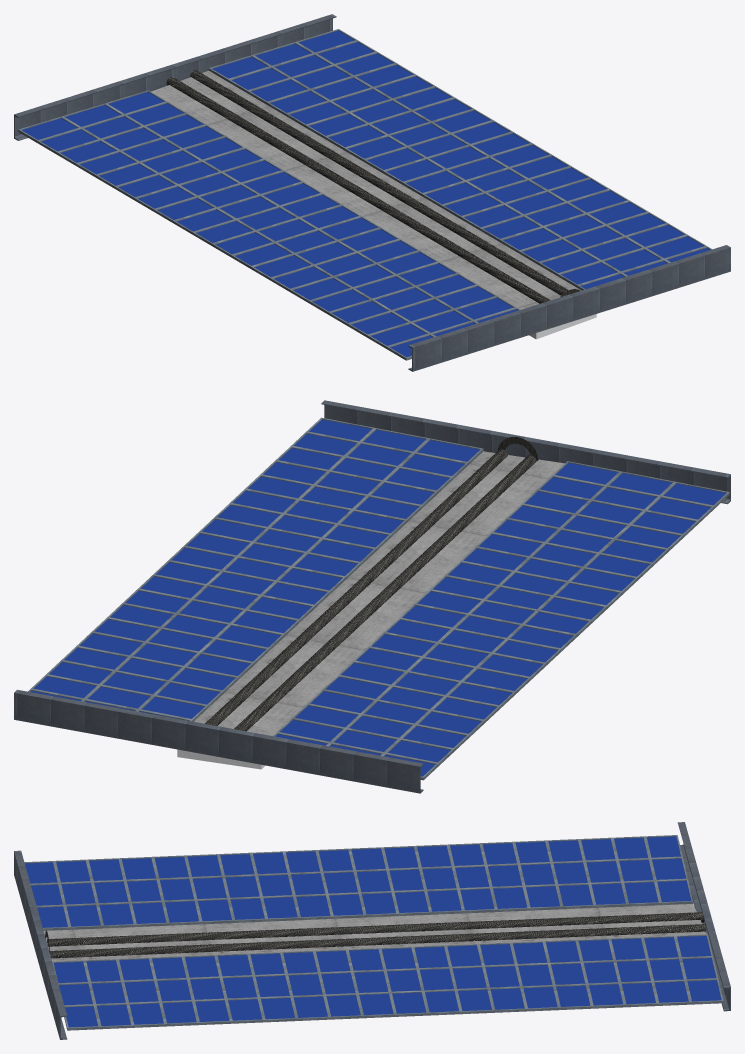
The model's file is Solarteilgr2.dae.
3 renders of one model, top to bottom at view 1: azimuth 30°, elevation 25°; view 2: azimuth 150°, elevation 25°; view 3: azimuth 270°, elevation 25°, orthographic. The views are drawn at different scales.
Parts seen in each view (by area): view 1: Komponente (×121); view 2: Komponente (×121); view 3: Komponente (×127).
Part boxes in pixels (x1,y1,x2,y2): Komponente (×121): (14, 14, 730, 371); Komponente (×121): (14, 400, 730, 793); Komponente (×127): (14, 822, 730, 1039).
Bounding box in the file's own units: 1137 × 1776 × 97.98.
